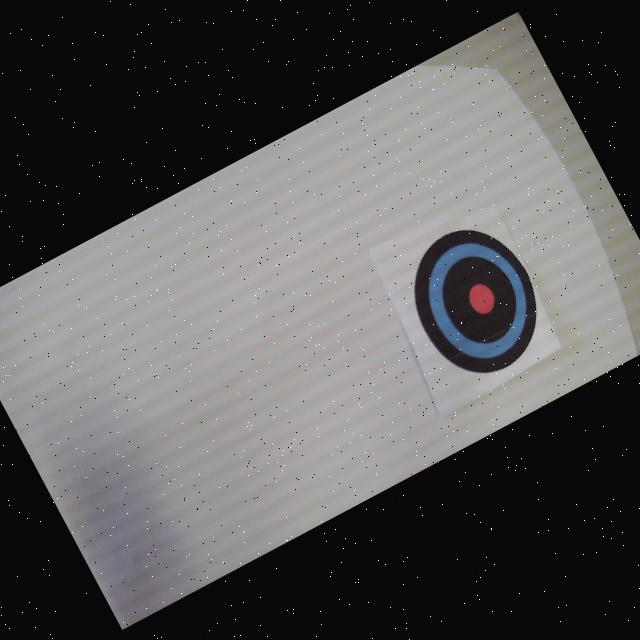COGNITIVE: (387, 206, 562, 394)
